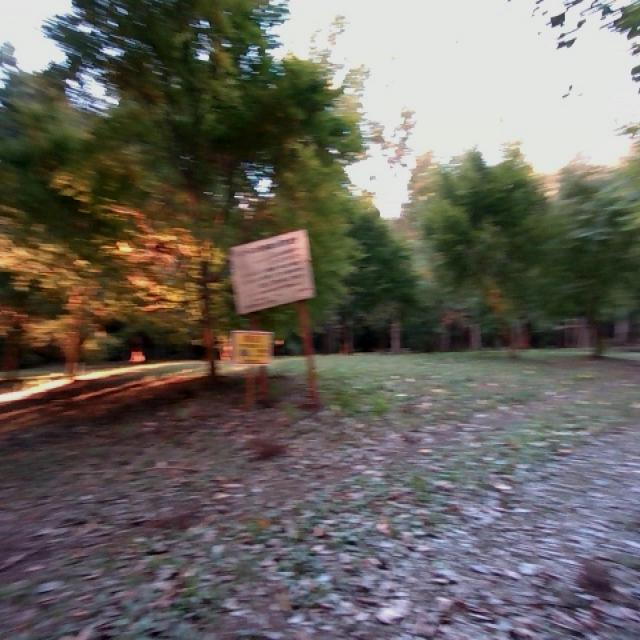artifact: (222, 221, 320, 438)
tree: (453, 167, 539, 363), (555, 162, 631, 362), (188, 184, 224, 380)
